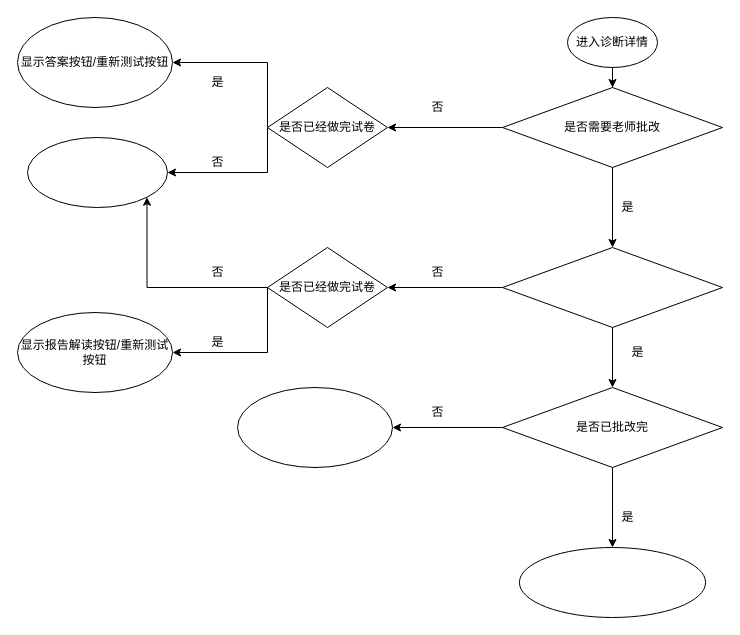
The diagram is 740 pixels wide and 635 high, and some of its shapes have lost their labels. The shapes that lost their labels are listed below. From the top down, each one's centre as x and y in pixels, then its label:
At point 97,172: "开始诊断测试按钮".
At point 612,287: "是否已付款".
At point 314,427: "点击报告解读展示等待老师批改的页面".
At point 612,582: "点击报告解读展示考试答案和老师的解读报告".
